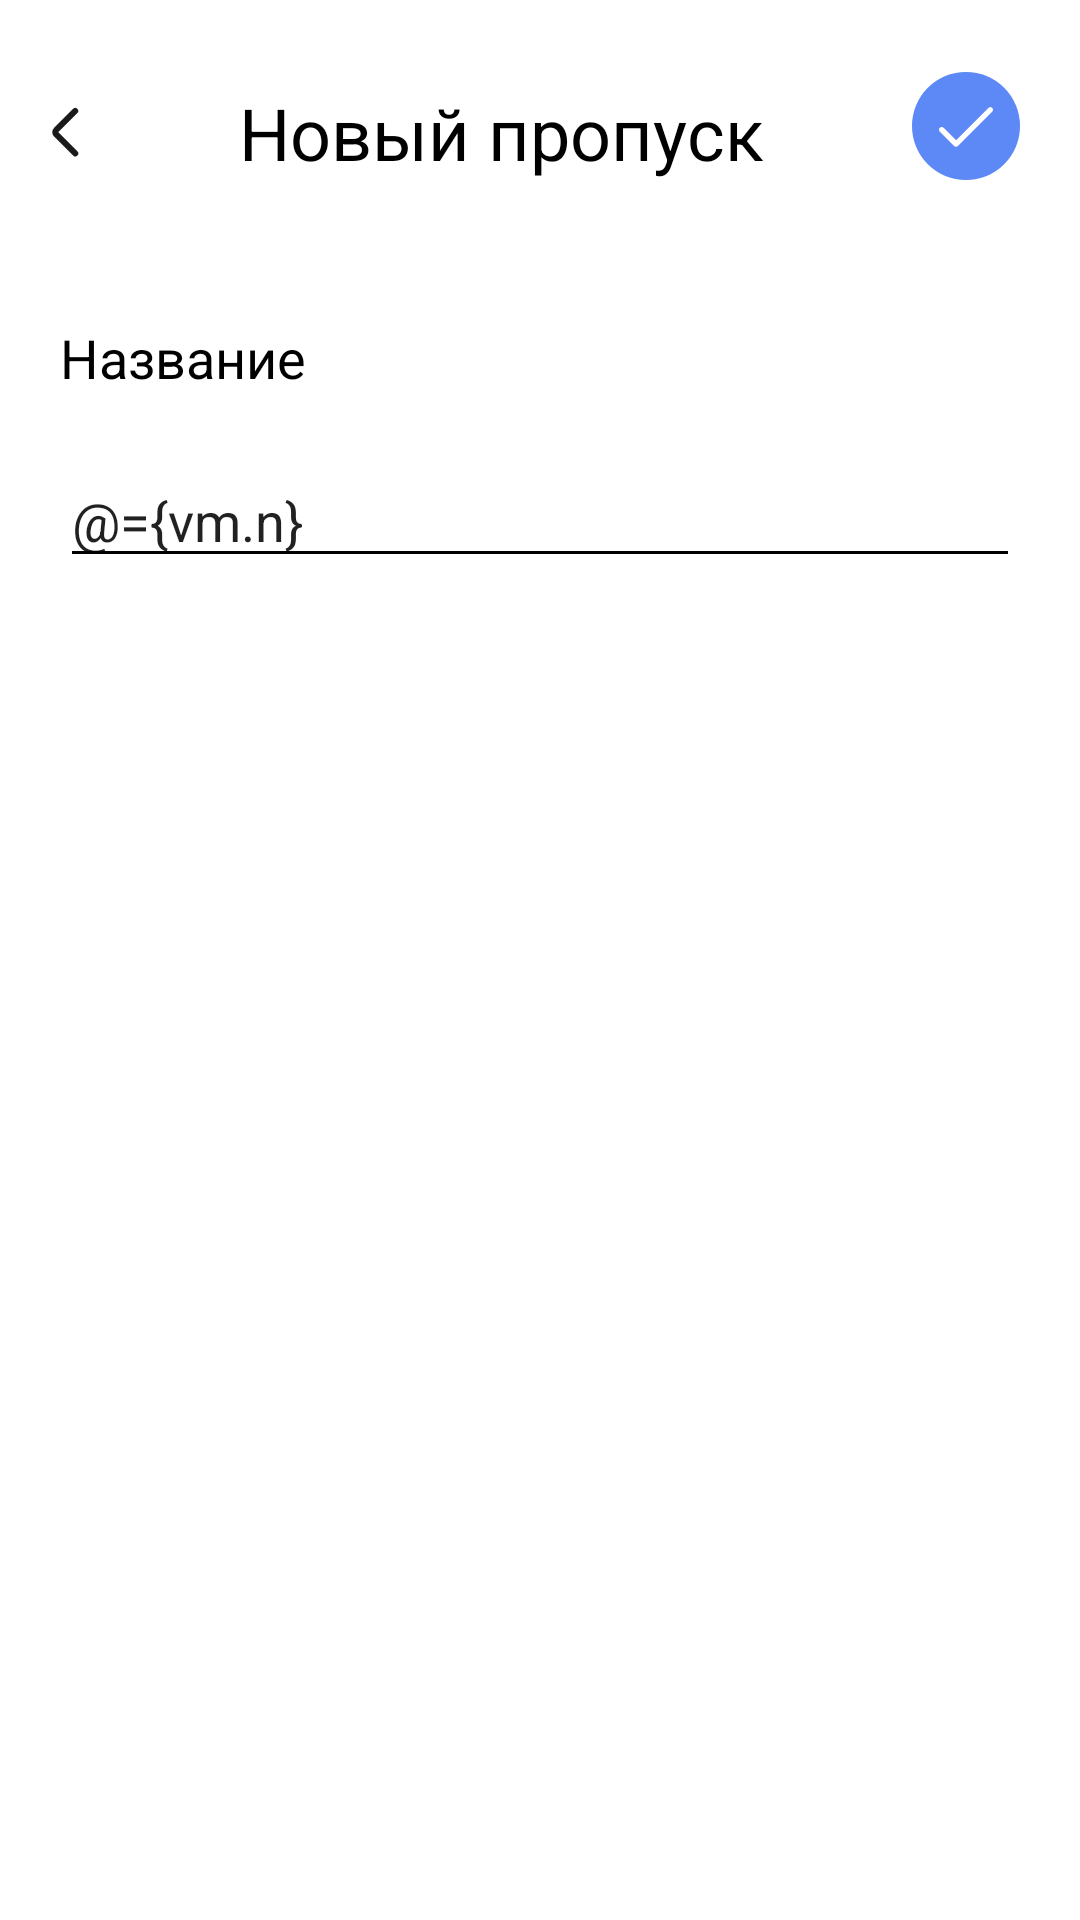

Icon bounding boxes for this 1080*1920 phone screenshot, format (x1, y1, x2, y2):
back: (52, 107, 79, 157)
ready: (912, 72, 1020, 180)
